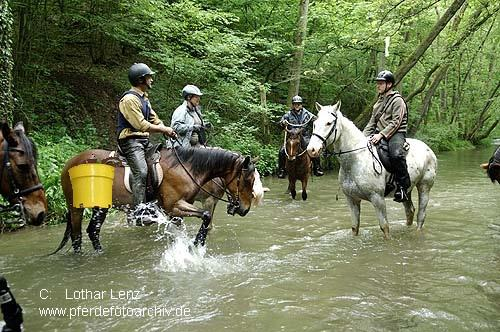tampered: (69, 155, 122, 208)
